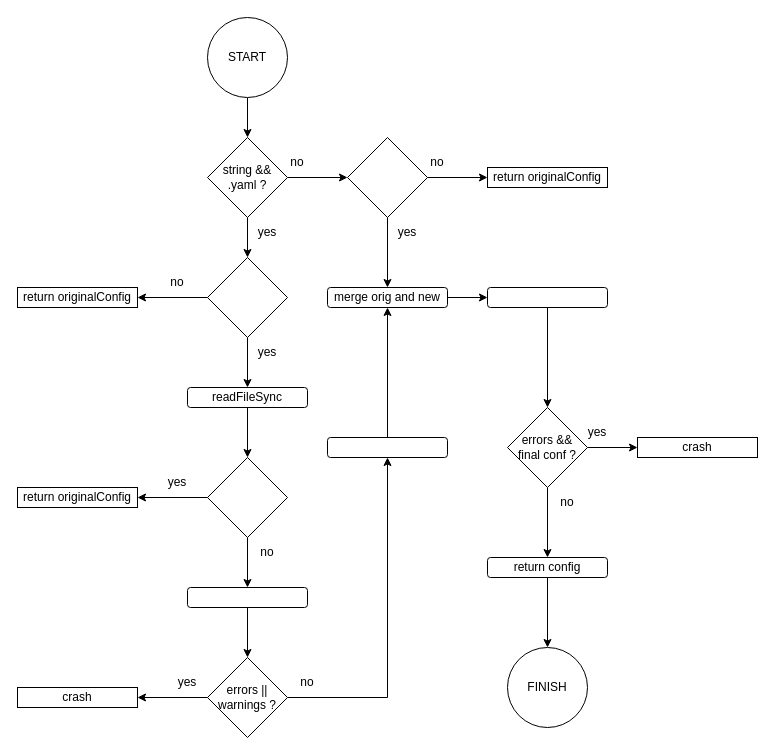
The diagram is 775 pixels wide and 755 high, and some of its shapes have lost their labels. The centre of each missing label's shape, as x and y in pixels:
"empty ?" belongs at [247,497].
"exist ?" belongs at [247,297].
"object ?" belongs at [387,177].
"parse yaml" belongs at [247,597].
"validate config" belongs at [547,297].
"yaml toJS in new" belongs at [387,447].
